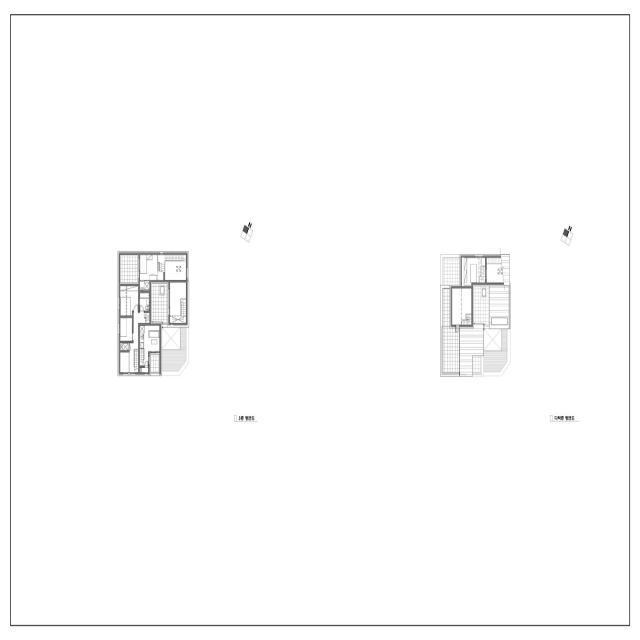space_balconi: (152, 283, 168, 323), (120, 255, 138, 283), (151, 355, 160, 372)
space_bedroom: (140, 255, 164, 280), (120, 286, 138, 316), (120, 318, 132, 341)
space_dressroom: (140, 281, 149, 290)
space_kitchen: (140, 326, 160, 366)
space_living_room: (120, 312, 146, 372)
space_other: (452, 288, 472, 325), (462, 257, 485, 286), (170, 282, 186, 323), (165, 261, 186, 280), (120, 343, 129, 350), (140, 368, 148, 372)
space_staircase: (158, 255, 186, 273), (462, 314, 471, 325), (134, 350, 138, 372), (181, 299, 186, 316), (480, 266, 485, 283), (140, 349, 144, 366), (144, 313, 150, 323)
space_toilet: (140, 292, 150, 311)
